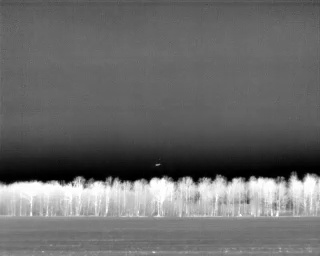DRONE: (153, 160, 163, 170)
